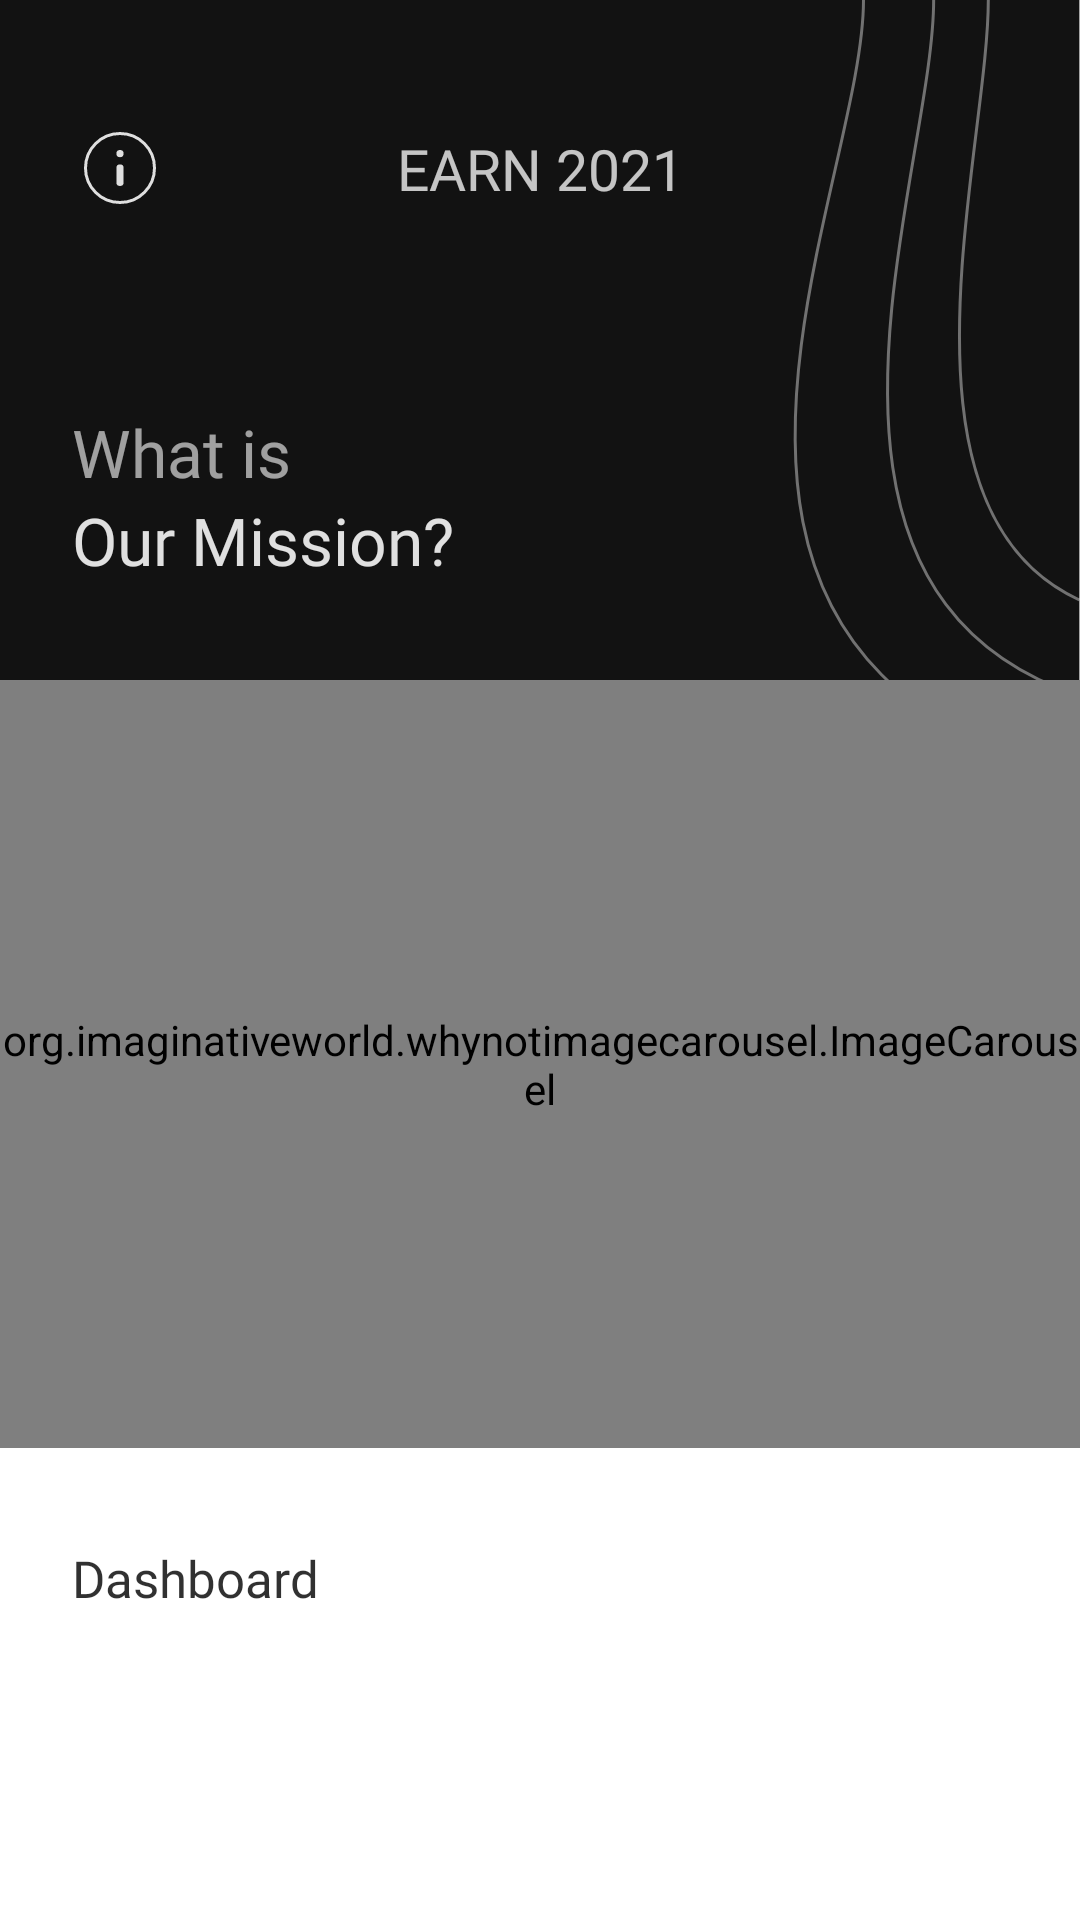

Icon bounding boxes for this 1080px x 1920px phone screenshot, format (x1,y1,x2,y2):
info: (84,132,156,204)
